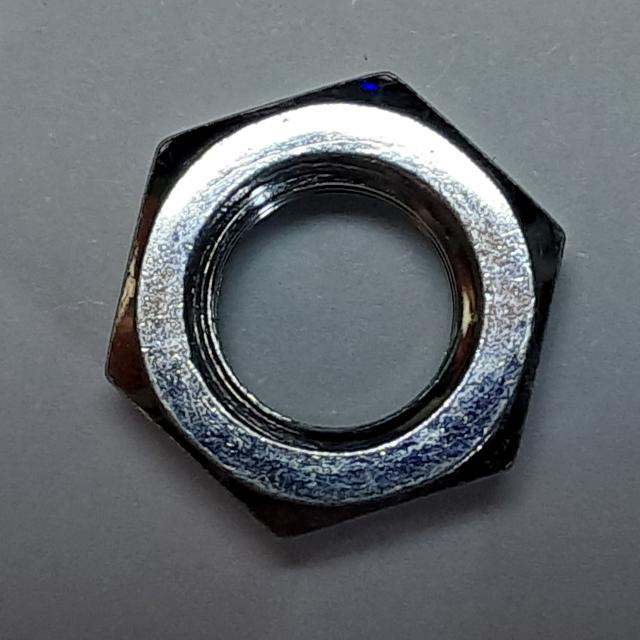Excellent: (94, 55, 581, 553)
